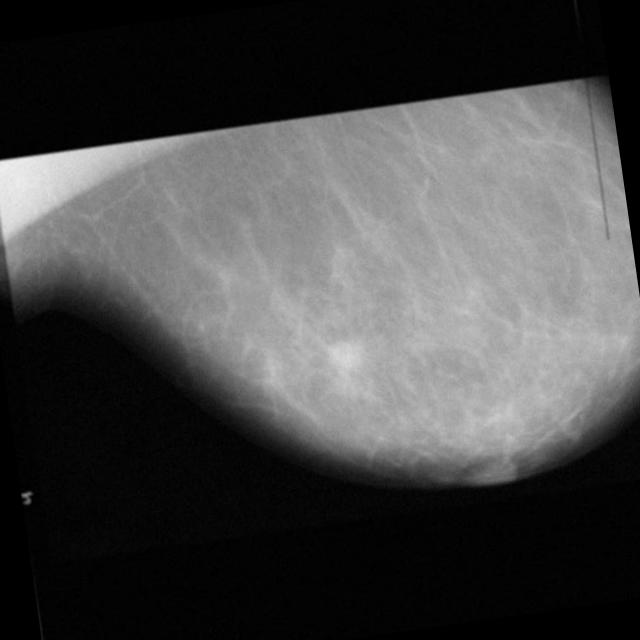ARCH: (279, 291, 412, 424)
